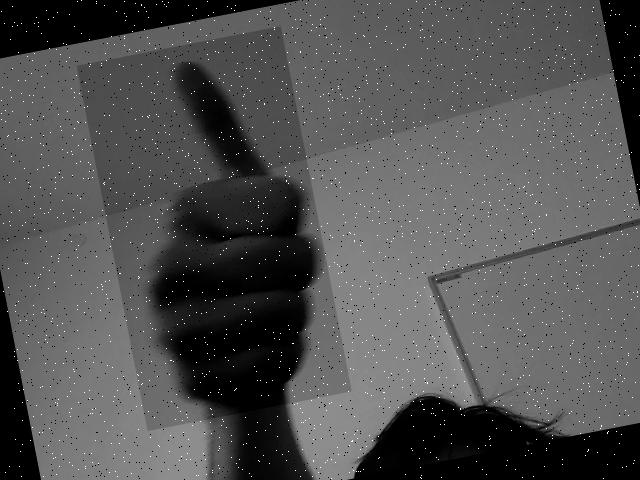good: (116, 44, 316, 423)
